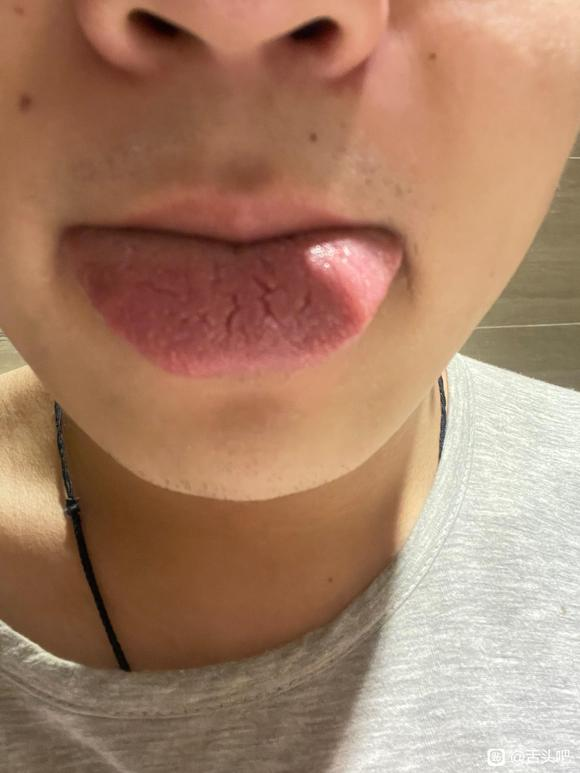hongshe: (60, 225, 404, 377)
liewenshe: (145, 263, 314, 338)
